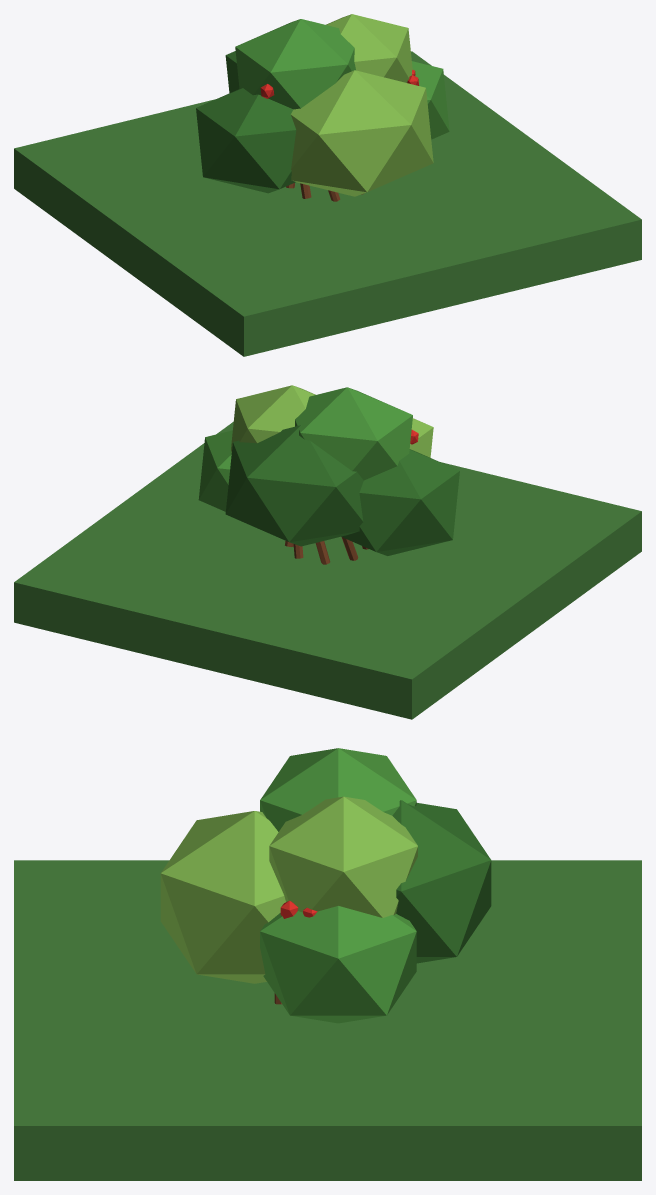
The model's file is bush.glb.
3 views of the same model, one above another, from view 1: azimuth 30°, elevation 25°; view 2: azimuth 150°, elevation 25°; view 3: azimuth 270°, elevation 25° (orthographic). The views are drawn at different scales.
Visible parts, largest first — view 1: TerrainBase, BushLeaf.002, BushLeaf, BushLeaf.004, BushLeaf.005, BushLeaf.001; view 2: TerrainBase, BushLeaf.003, BushLeaf, BushLeaf.004, BushLeaf.005, BushLeaf.001, BushLeaf.002; view 3: TerrainBase, BushLeaf.002, BushLeaf.001, BushLeaf.005, BushLeaf.003, BushLeaf.004.
Boxes of the visible parts, x1,y1,x2,y2 form: TerrainBase: (14, 51, 641, 356); BushLeaf.002: (291, 70, 433, 196); BushLeaf: (196, 88, 296, 193); BushLeaf.004: (235, 19, 355, 109); BushLeaf.005: (326, 14, 412, 82); BushLeaf.001: (412, 61, 449, 139); TerrainBase: (14, 422, 641, 719); BushLeaf.003: (225, 425, 363, 546); BushLeaf: (341, 449, 459, 555); BushLeaf.004: (295, 387, 412, 480); BushLeaf.005: (231, 385, 315, 452); BushLeaf.001: (198, 430, 232, 511); BushLeaf.002: (409, 418, 433, 457); TerrainBase: (14, 860, 641, 1180); BushLeaf.002: (160, 811, 285, 983); BushLeaf.001: (260, 906, 416, 1023); BushLeaf.005: (269, 796, 417, 917); BushLeaf.003: (392, 800, 491, 963); BushLeaf.004: (260, 748, 416, 831).
Size of the model in its own units: 6 by 3 by 6.
